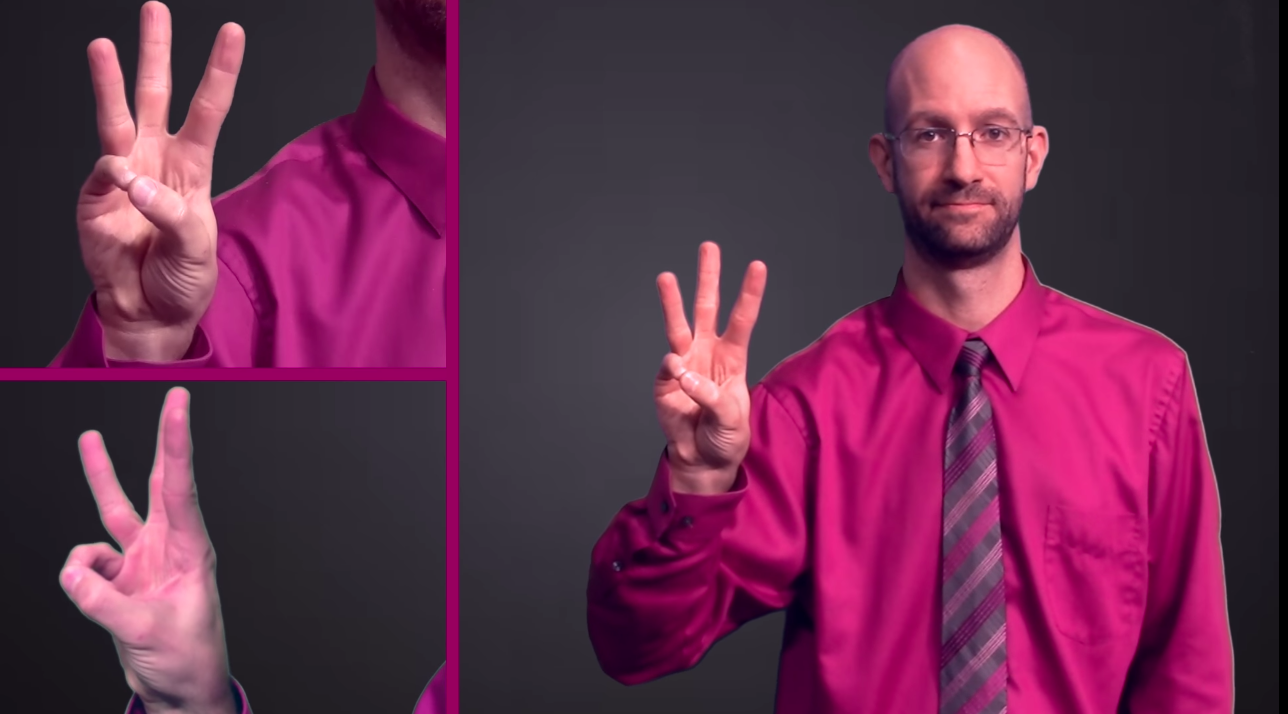w: (46, 382, 256, 714), (69, 1, 259, 340), (635, 231, 784, 486)
